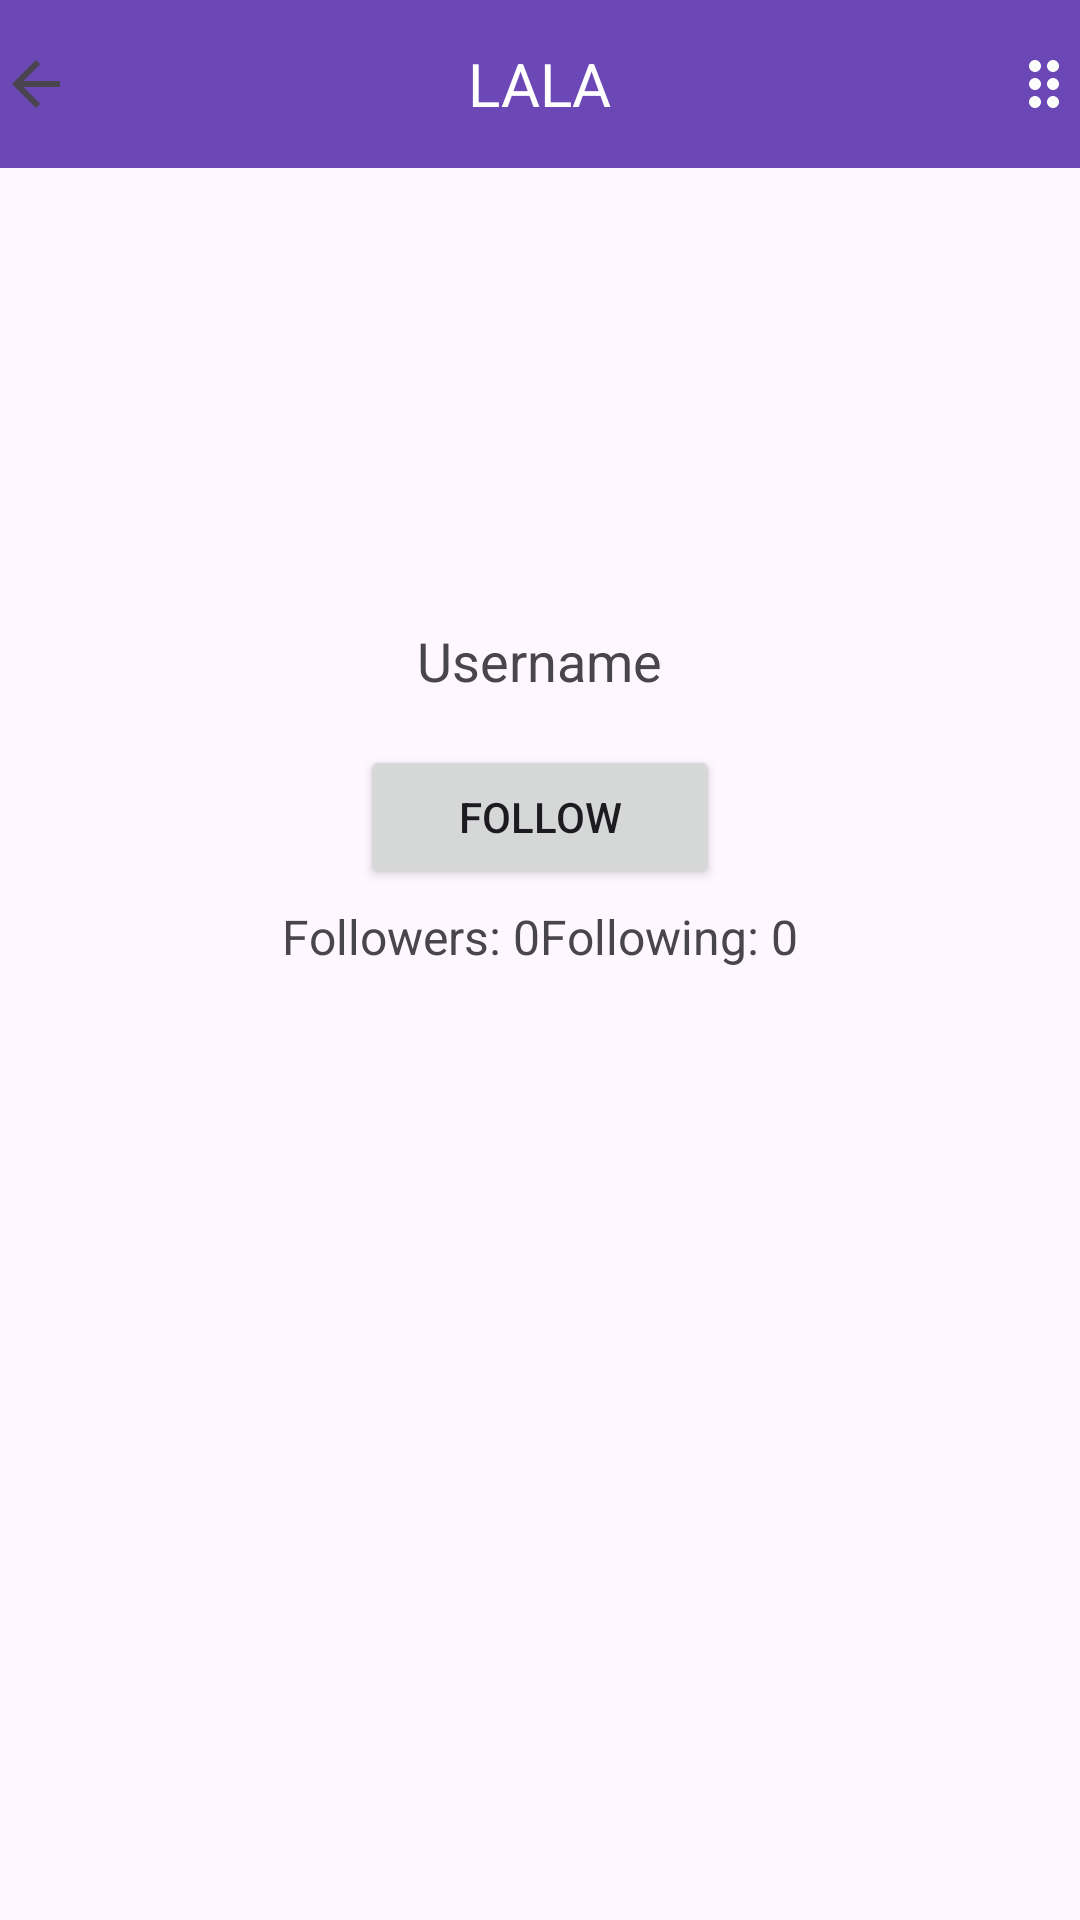

Where icons sit on this 1080 × 1920 app screen, as {"x1": x1, "y1": y1, "x2": x2, "y2": y2}:
menu: {"x1": 1029, "y1": 60, "x2": 1059, "y2": 108}
